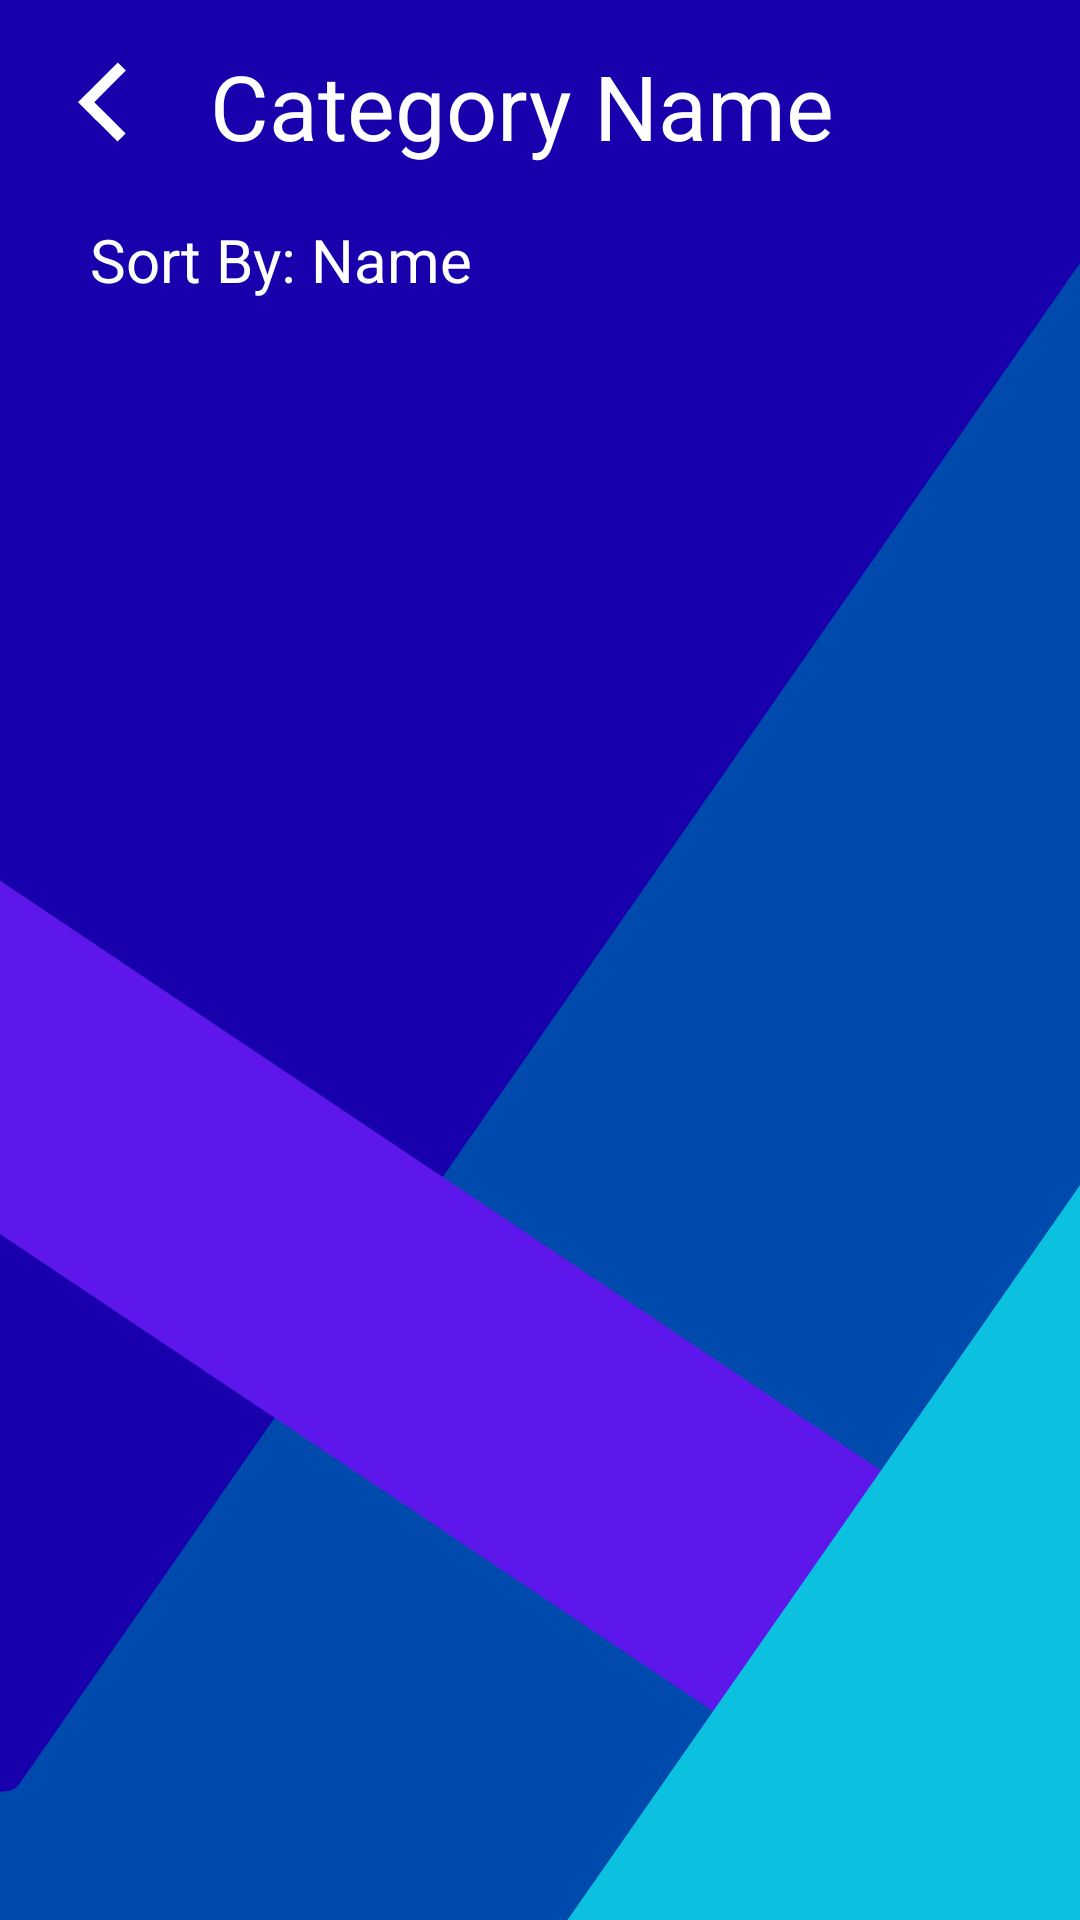

Screen size 1080px×1920px. Icon name, then its center in pixels as (x,y):
back: (102,102)
